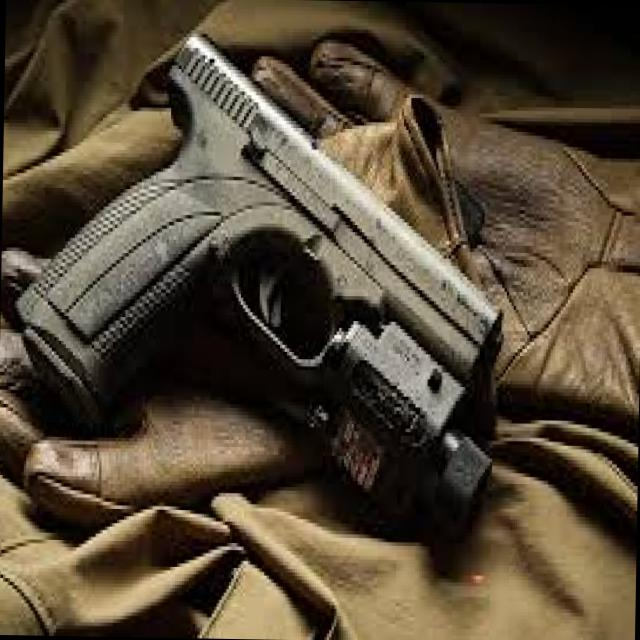Gun: (9, 16, 544, 460)
